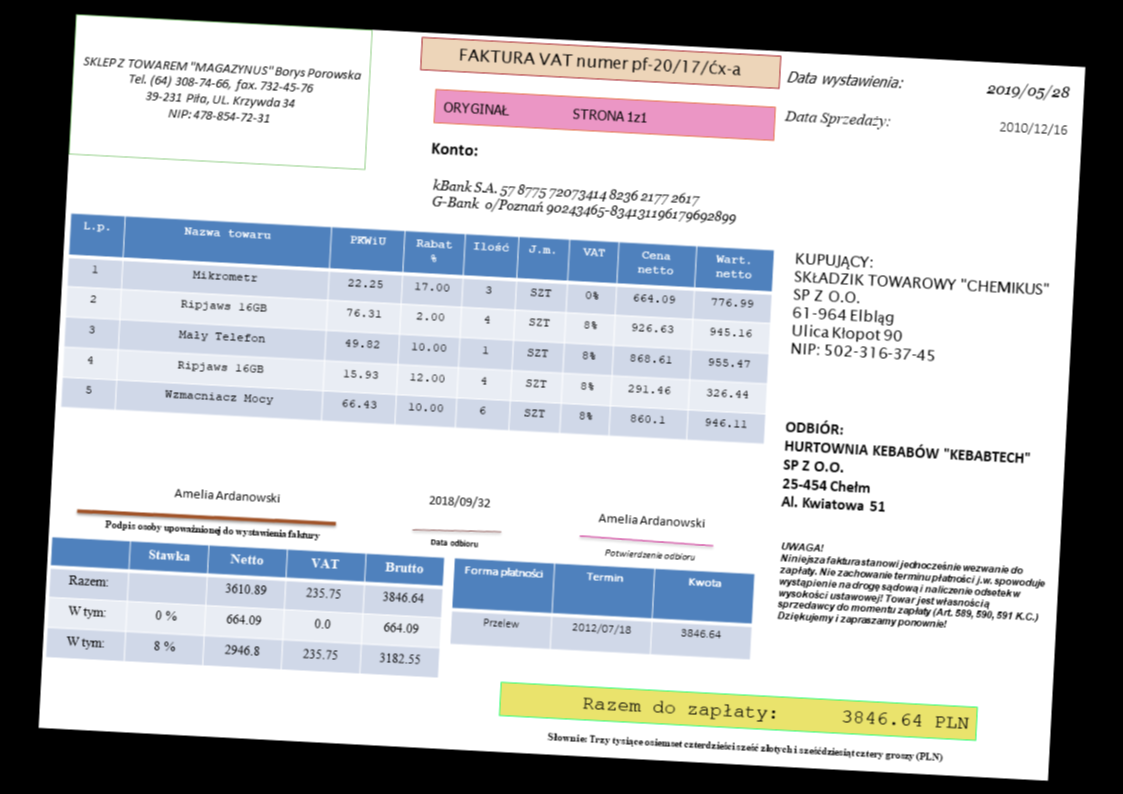Table: (58, 211, 775, 445), (44, 534, 444, 678), (448, 556, 755, 660)
TextBox: (786, 248, 1053, 370), (779, 416, 1034, 522), (774, 538, 1049, 635), (78, 52, 363, 130), (428, 176, 740, 227), (580, 694, 970, 734), (545, 729, 944, 764), (456, 44, 744, 79), (442, 98, 649, 126), (102, 516, 320, 542), (785, 65, 904, 93), (782, 107, 892, 130), (172, 485, 281, 506), (983, 78, 1071, 103), (596, 511, 706, 529), (601, 545, 697, 563), (997, 118, 1068, 137), (426, 492, 491, 510), (429, 139, 478, 159), (427, 535, 478, 549)
